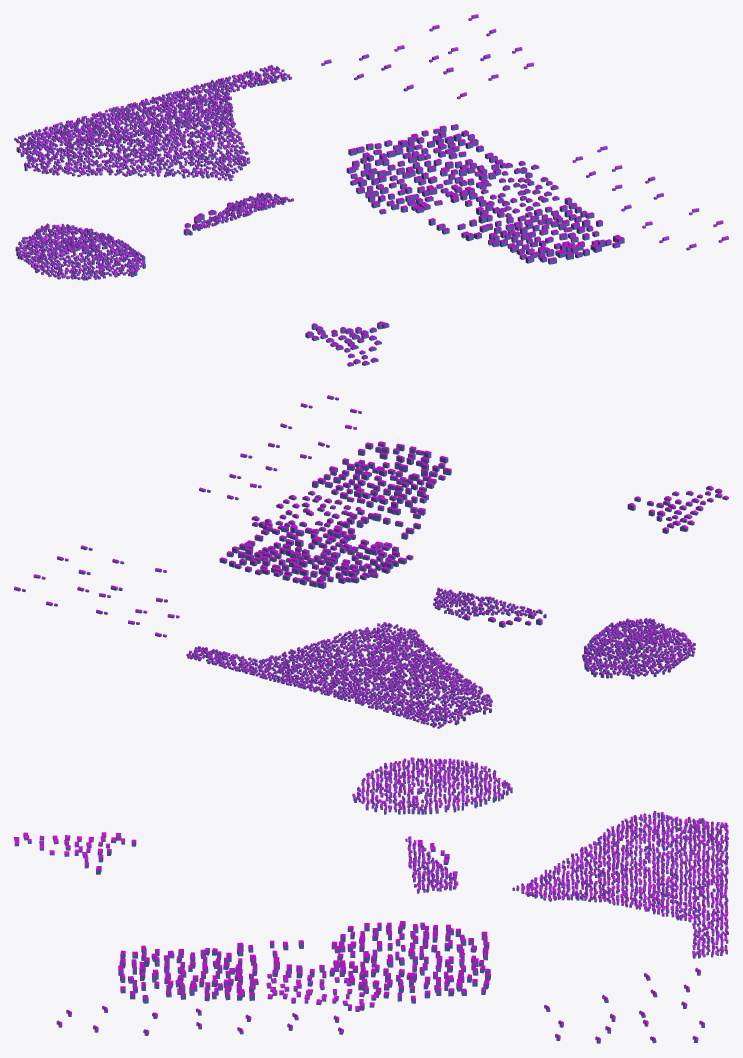
The model's file is context.fbx.
3 views of the same model, one above another, from view 1: azimuth 30°, elevation 25°; view 2: azimuth 150°, elevation 25°; view 3: azimuth 270°, elevation 25° (orthographic). The views are drawn at different scales.
Visible parts, largest first — view 1: context; view 2: context; view 3: context.
Boxes of the visible parts, box(x1,y1,x2,y2) form: context: box(14, 14, 728, 366); context: box(14, 395, 728, 728); context: box(14, 757, 728, 1043).
Bounding box in the file's own units: 2432 × 116 × 2375.
